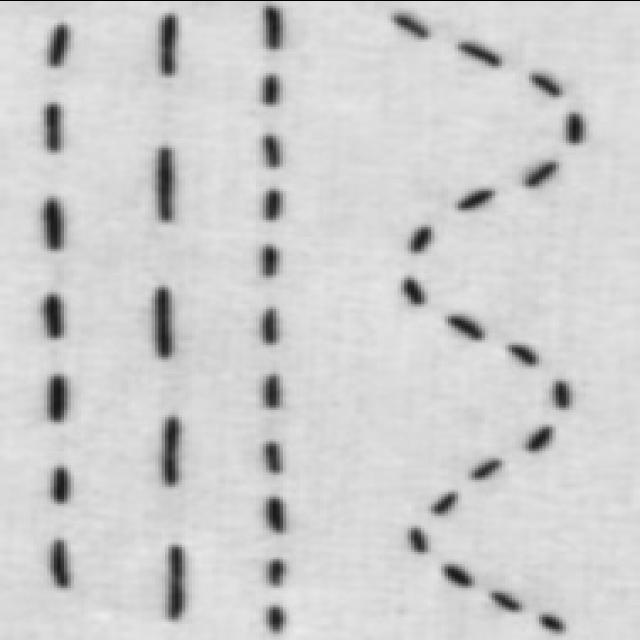stitch: (152, 145, 175, 221), (165, 544, 185, 620), (161, 415, 179, 485), (154, 286, 171, 358), (157, 14, 176, 75), (457, 40, 501, 66), (390, 11, 429, 39), (42, 198, 62, 249), (521, 160, 557, 188), (446, 315, 483, 340), (42, 294, 63, 338), (263, 5, 283, 49), (47, 375, 66, 421), (47, 24, 68, 65), (455, 188, 494, 210), (51, 539, 69, 586), (44, 102, 61, 151), (529, 71, 562, 96), (264, 496, 285, 532), (259, 308, 280, 344), (525, 425, 553, 451), (469, 458, 502, 480), (261, 374, 281, 408), (443, 564, 473, 586), (490, 590, 521, 611), (259, 244, 279, 276), (261, 134, 281, 166), (507, 344, 537, 365), (431, 491, 457, 515), (408, 225, 431, 252), (51, 466, 68, 502), (263, 441, 282, 472), (263, 189, 282, 220), (261, 74, 280, 105), (565, 112, 583, 144), (539, 612, 565, 634), (406, 526, 427, 552), (266, 558, 285, 586), (551, 380, 570, 408), (403, 278, 423, 304), (266, 605, 284, 632)
